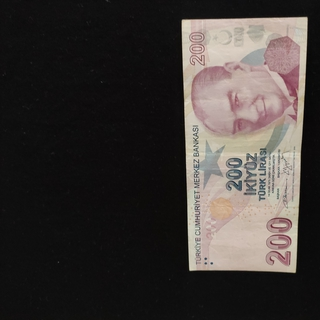200TLFront: (180, 16, 308, 273)
